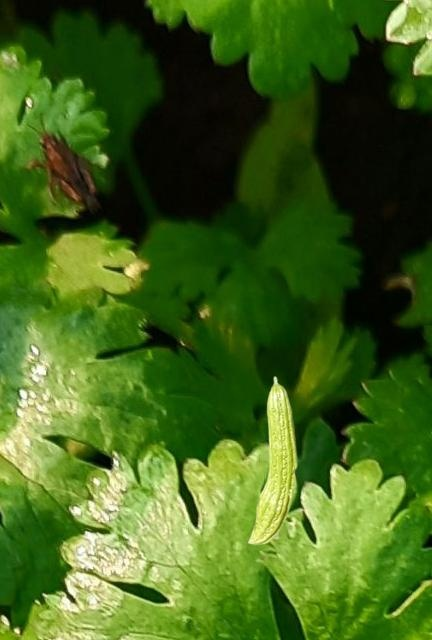ampalaya: (247, 375, 299, 546)
